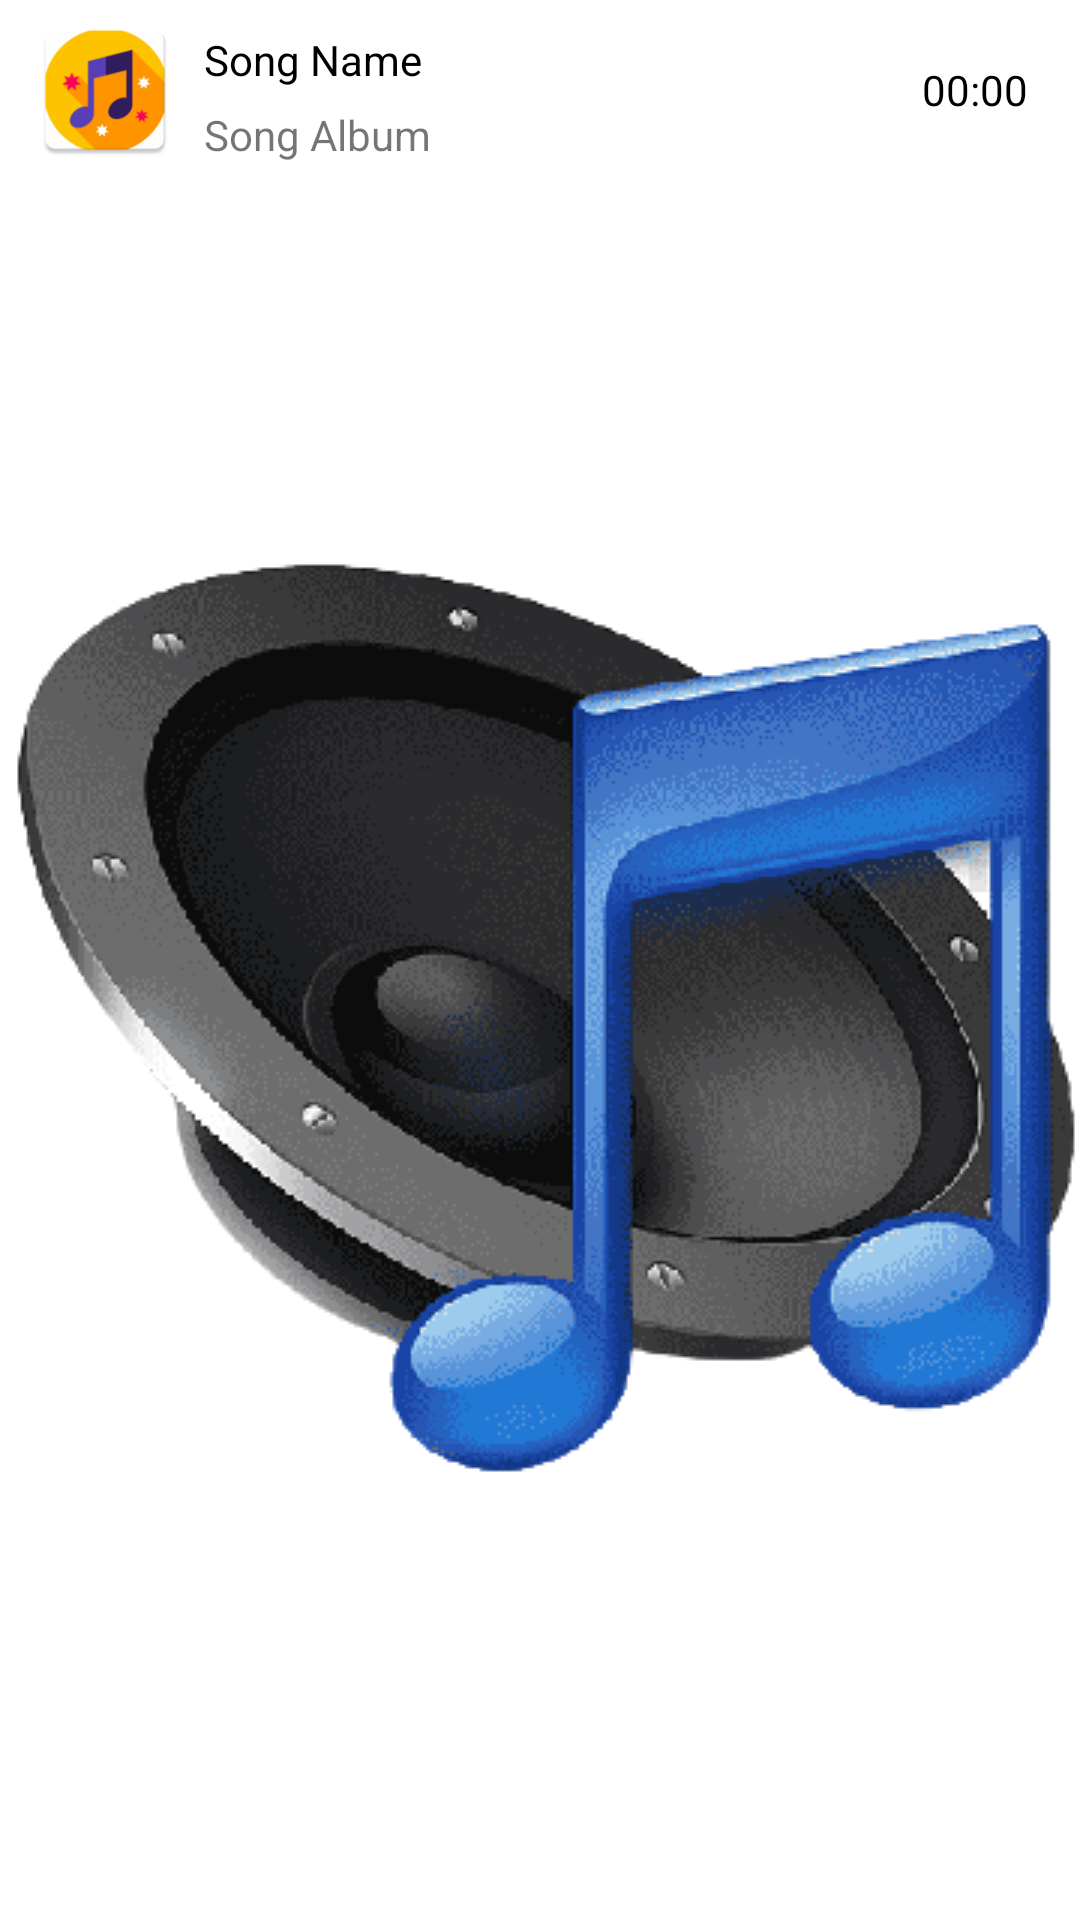

Icons on this 1080px x 1920px Android screen, each with its box as (x1, y1, x2, y2):
music player: (44, 30, 166, 153)
